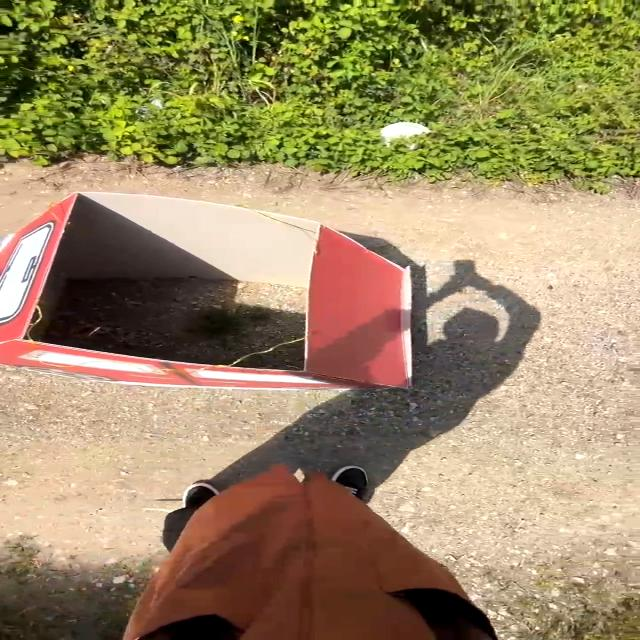red_car: (0, 187, 512, 420)
